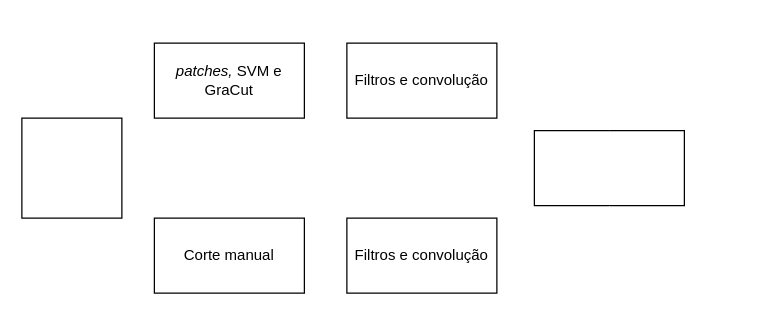
The diagram is 781 pixels wide and 326 high, and some of its shapes have lost their labels. The shapes that lost their labels are listed below. From the top down, each one's centre as x and y in pixels, then its label:
the point at 71,167: DATASET
the point at 608,167: Resultado
